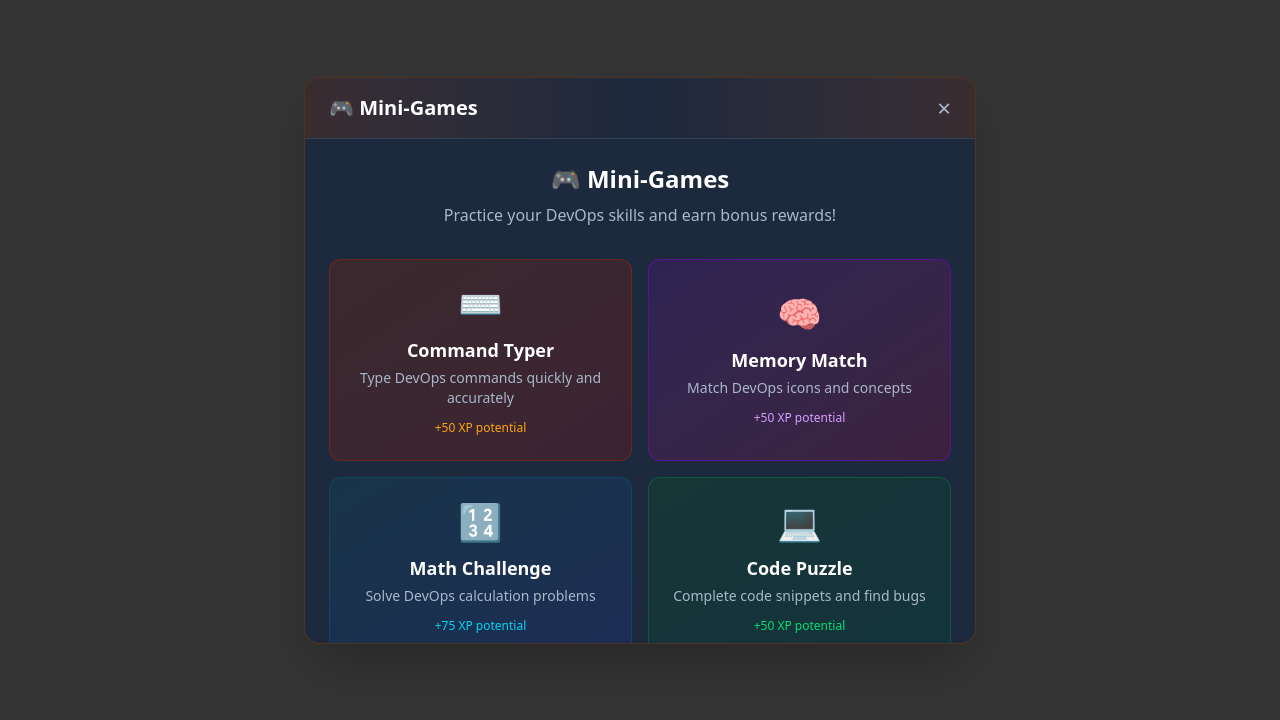
MiniGameHub › keeps the clock of an opened game running only while it is mounted
Click the button with aria-label "Play Math Challenge game" at (480, 568), box [329,476,632,658]
Wait 2000 ms
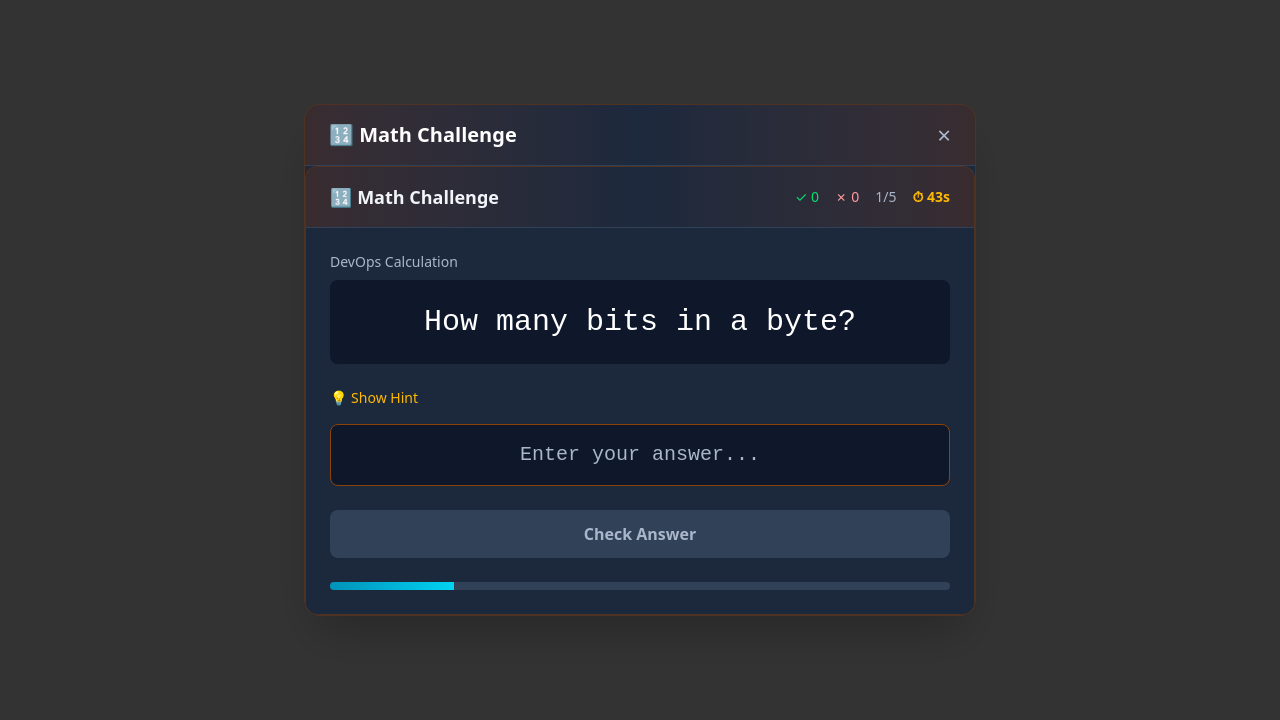
Check: the text "⏱ 43s" is shown, box [912,187,950,207]
